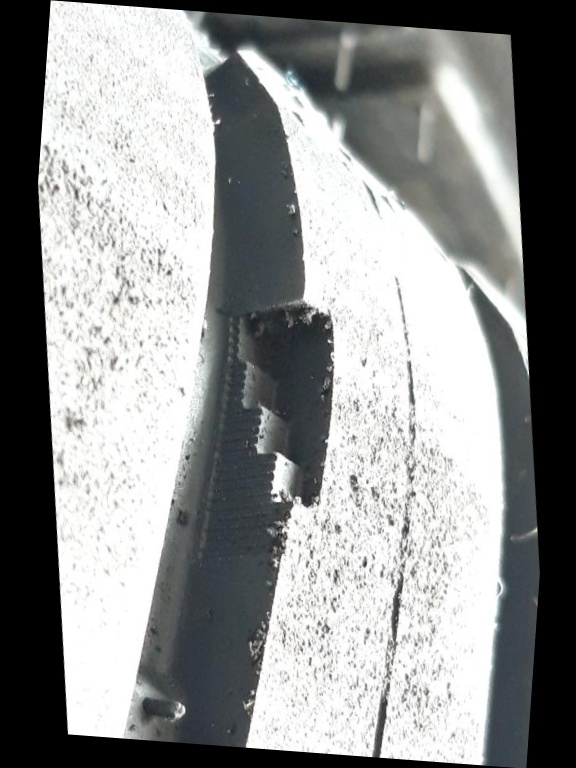temoin:95: (166, 269, 380, 582)
